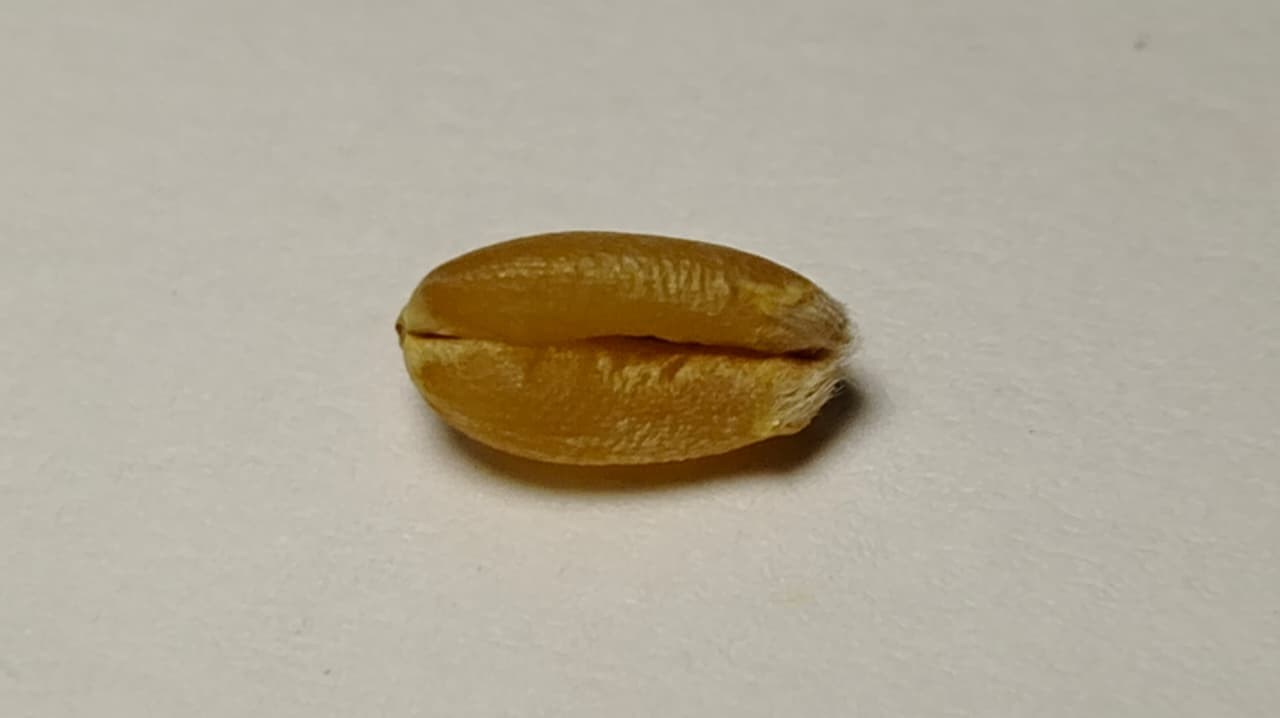healthy: (397, 232, 846, 461)
